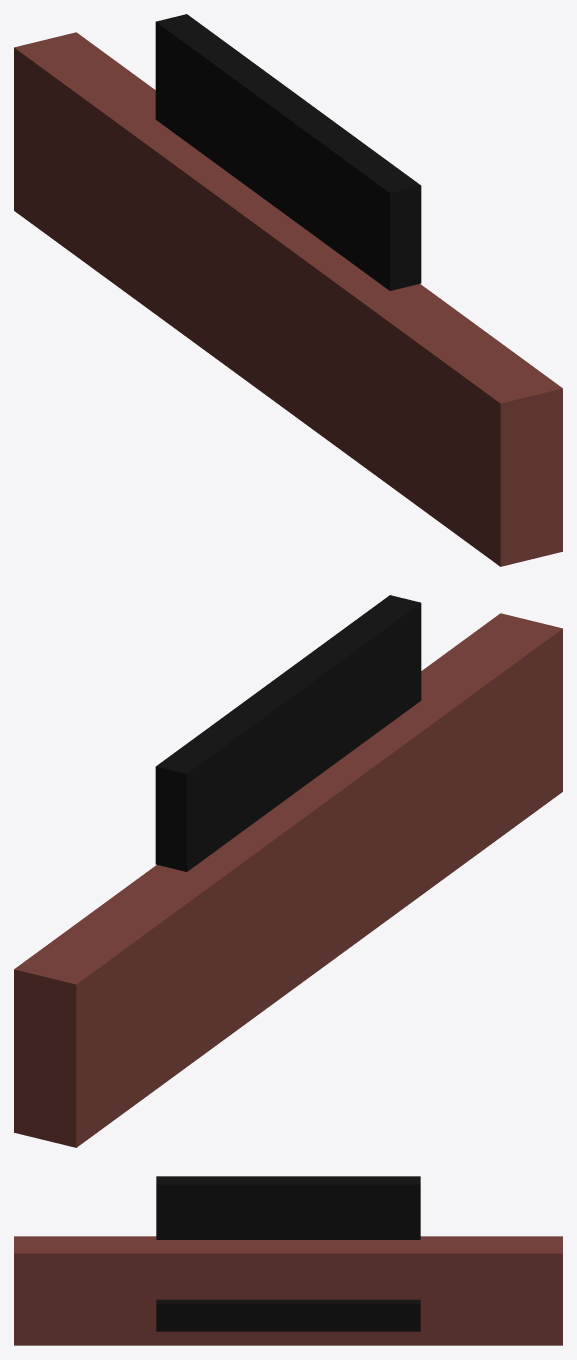
The model's file is hatchback_front_bumper.glb.
The picture shows the model from 3 angles, top to bottom: view 1: azimuth 30°, elevation 25°; view 2: azimuth 150°, elevation 25°; view 3: azimuth 270°, elevation 25°; orthographic projection. The views are drawn at different scales.
Parts seen in each view (by area): view 1: body:compound; view 2: body:compound; view 3: body:compound.
Part boxes in pixels (bbox=[...]): body:compound: bbox=[14, 14, 562, 566]; body:compound: bbox=[14, 595, 562, 1147]; body:compound: bbox=[14, 1176, 562, 1345].
Bounding box in the file's own units: 0.1562 × 0.5312 × 1.69.
